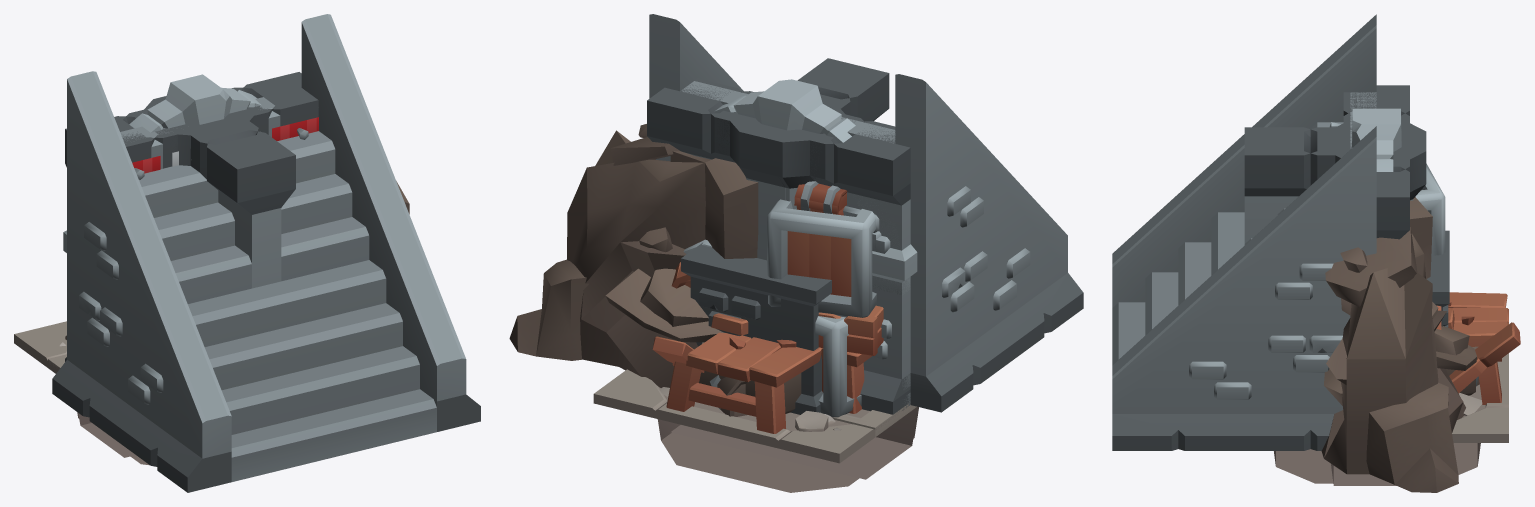
The model's file is crypt2.glb.
3 views of the same model, side by side, from view 1: azimuth 30°, elevation 25°; view 2: azimuth 150°, elevation 25°; view 3: azimuth 270°, elevation 25° (orthographic). The views are drawn at different scales.
Visible parts, largest first — view 1: stairs, wall_corner, arch, wall_shelves, wall_broken, floor_tile_big_grate, banner_triple_red, wall_pillar, floor_tile_grate; view 2: stairs, rubble_half, wall_broken, box_stacked, floor_tile_big_grate, floor_foundation_allsides, table_long_broken, wall_corner, arch, wall_doorway, wall_pillar, floor_tile_grate (+5 smaller); view 3: stairs, rubble_half, wall_corner, table_long_broken, wall_broken, floor_tile_big_grate, arch, wall_pillar, box_stacked, floor_foundation_allsides, wall_shelves, floor_dirt_large_rocky (+1 smaller).
Boxes of the visible parts, x1,y1,x2,y2 form: stairs: (52,14,480,492); wall_corner: (65,112,295,288); arch: (63,74,261,252); wall_shelves: (126,72,318,167); wall_broken: (65,80,310,361); floor_tile_big_grate: (14,321,149,465); banner_triple_red: (132,117,318,179); wall_pillar: (132,88,310,165); floor_tile_grate: (48,354,135,457); stairs: (649,14,1083,412); rubble_half: (509,124,758,387); wall_broken: (647,78,910,414); box_stacked: (710,181,876,417); floor_tile_big_grate: (593,369,918,492); floor_foundation_allsides: (681,242,831,414); table_long_broken: (652,313,821,433); wall_corner: (770,58,910,413); arch: (714,79,917,407); wall_doorway: (649,137,910,400); wall_pillar: (649,79,910,414); floor_tile_grate: (671,403,918,479); stairs: (1112,14,1376,450); rubble_half: (1321,197,1476,492); wall_corner: (1244,85,1409,243); table_long_broken: (1448,292,1520,404); wall_broken: (1343,85,1409,239); floor_tile_big_grate: (1274,353,1508,483); arch: (1352,108,1401,171); wall_pillar: (1330,87,1426,200); box_stacked: (1415,163,1479,386); floor_foundation_allsides: (1426,230,1449,327); wall_shelves: (1376,105,1409,238); floor_dirt_large_rocky: (1452,384,1508,442).
Size of the model in its own units: 6.5 by 6.41 by 6.18.
3 materials, 3 textured.
